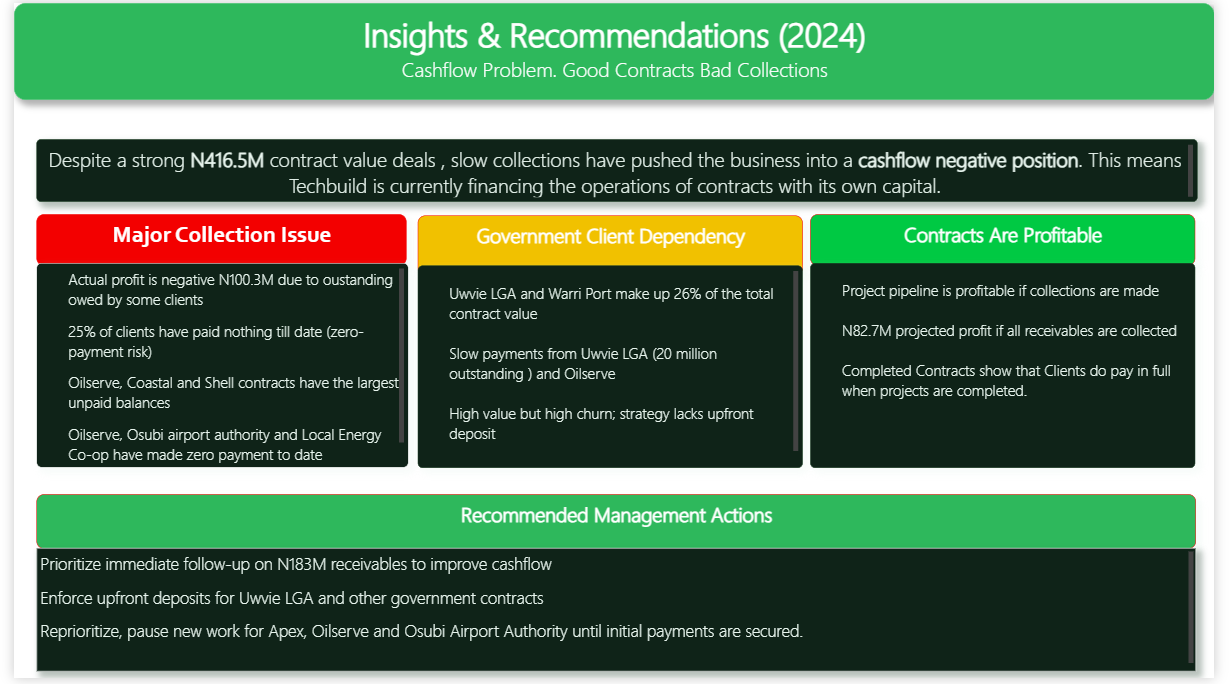

Layout of this report page (visuals, bound fields, positions):
{"tool":"powerbi","page":{"name":"Page 2","canvas":[1920,1080],"ordinal":1},"visuals":[{"type":"textbox","box":[0,0,1921.1,155.3],"z":0},{"type":"textbox","box":[35,217.5,1857.5,100],"z":1000},{"type":"textbox","box":[36,338,592,82],"z":2000},{"type":"textbox","box":[35,415.7,595,327.5],"z":3000},{"type":"textbox","box":[646,340,616,96],"z":4000},{"type":"textbox","box":[646,420,616,324],"z":5000},{"type":"textbox","box":[1274,338,616,82],"z":6000},{"type":"textbox","box":[1274,416,616,328],"z":7000},{"type":"textbox","box":[35,785,1855,87.5],"z":8000},{"type":"textbox","box":[35,872.5,1855,197.5],"z":9000}]}

Visuals, with their boxes in screenshot pixels (x1, y1, x2, y2), scaled from the page's 1920x1080 canvas onto the 1232x684 screenshot:
textbox: bbox(0, 0, 1231, 98)
textbox: bbox(22, 138, 1214, 201)
textbox: bbox(23, 214, 403, 266)
textbox: bbox(22, 263, 404, 471)
textbox: bbox(415, 215, 810, 276)
textbox: bbox(415, 266, 810, 471)
textbox: bbox(817, 214, 1213, 266)
textbox: bbox(817, 263, 1213, 471)
textbox: bbox(22, 497, 1213, 553)
textbox: bbox(22, 553, 1213, 678)
